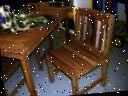Mesa: (0, 4, 76, 95)
Silla: (42, 4, 122, 95)
